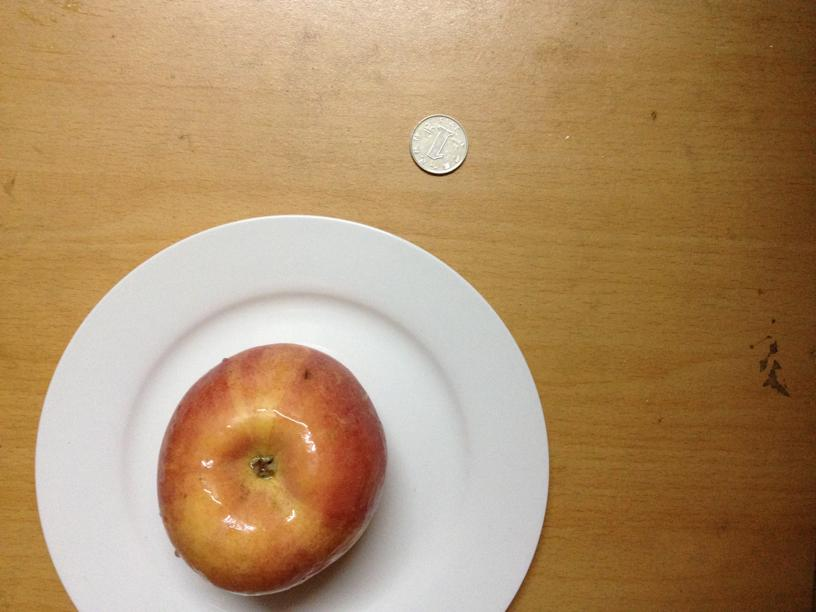apple: (143, 337, 383, 597)
coin: (409, 112, 469, 175)
